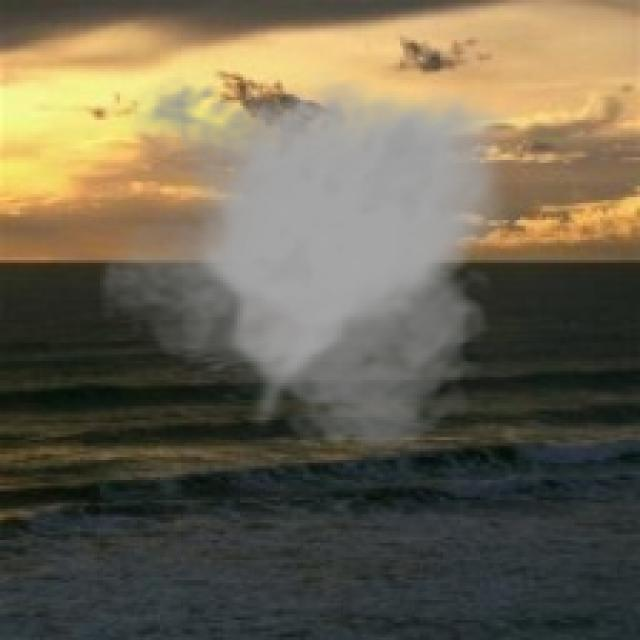smoke: (100, 72, 523, 454)
